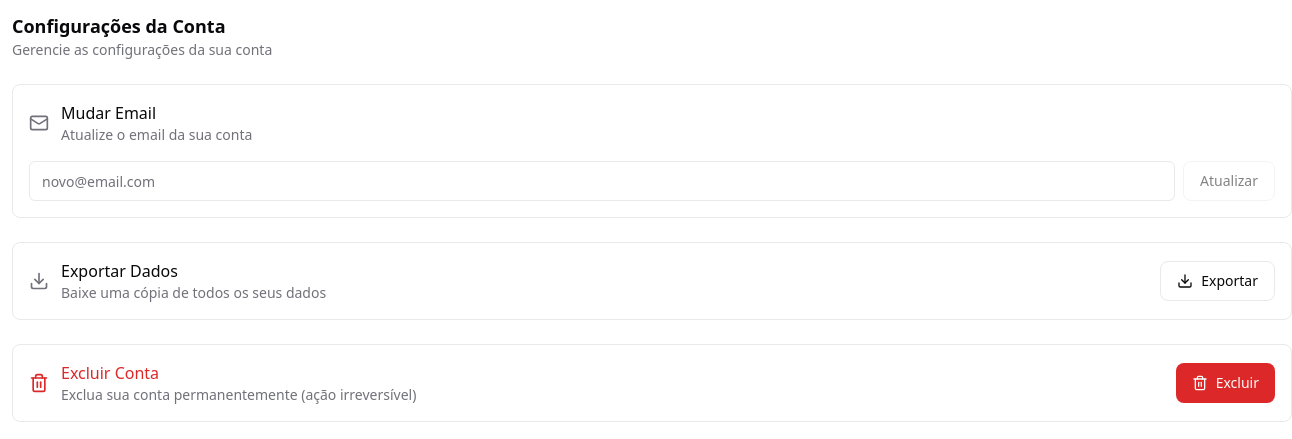
AccountSettings › should enable update button when email is entered
In the field with placeholder "novo@email.com": (602, 181) [29,161,1175,201], type "test@example.com"
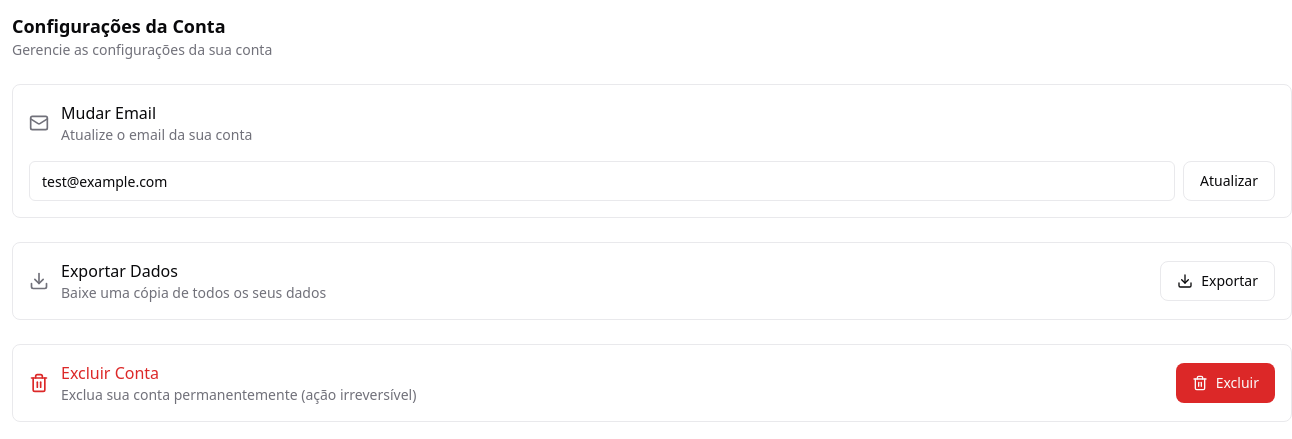
expect the button "Atualizar" is enabled: met, box [1183,161,1275,201]
